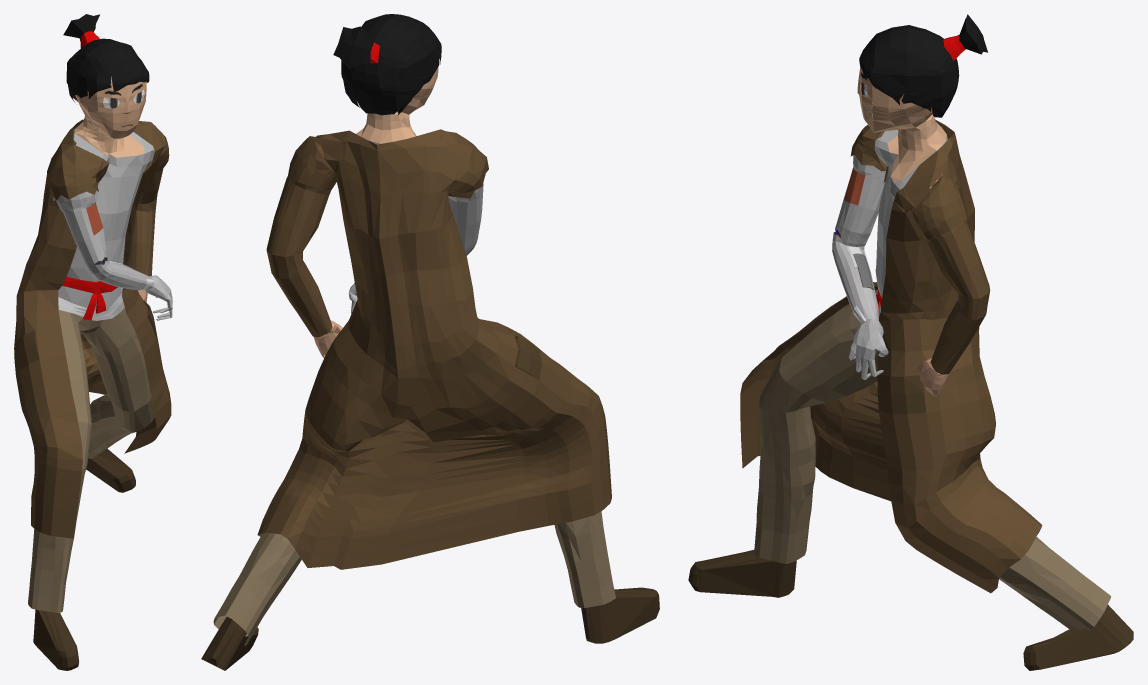
The model's file is One_RR_000012.obj.
The picture shows the model from 3 angles, left to right: view 1: azimuth 30°, elevation 25°; view 2: azimuth 150°, elevation 25°; view 3: azimuth 270°, elevation 25°; orthographic projection. The views are drawn at different scales.
Parts seen in each view (by area): view 1: Hair_Cube.004; view 2: Hair_Cube.004; view 3: Hair_Cube.004.
Boxes of the visible parts, box(x1,y1,x2,y2) form: Hair_Cube.004: box(14, 14, 172, 670); Hair_Cube.004: box(201, 14, 659, 670); Hair_Cube.004: box(688, 14, 1133, 670).
Bounding box in the file's own units: 1.53 × 3.63 × 2.27.
